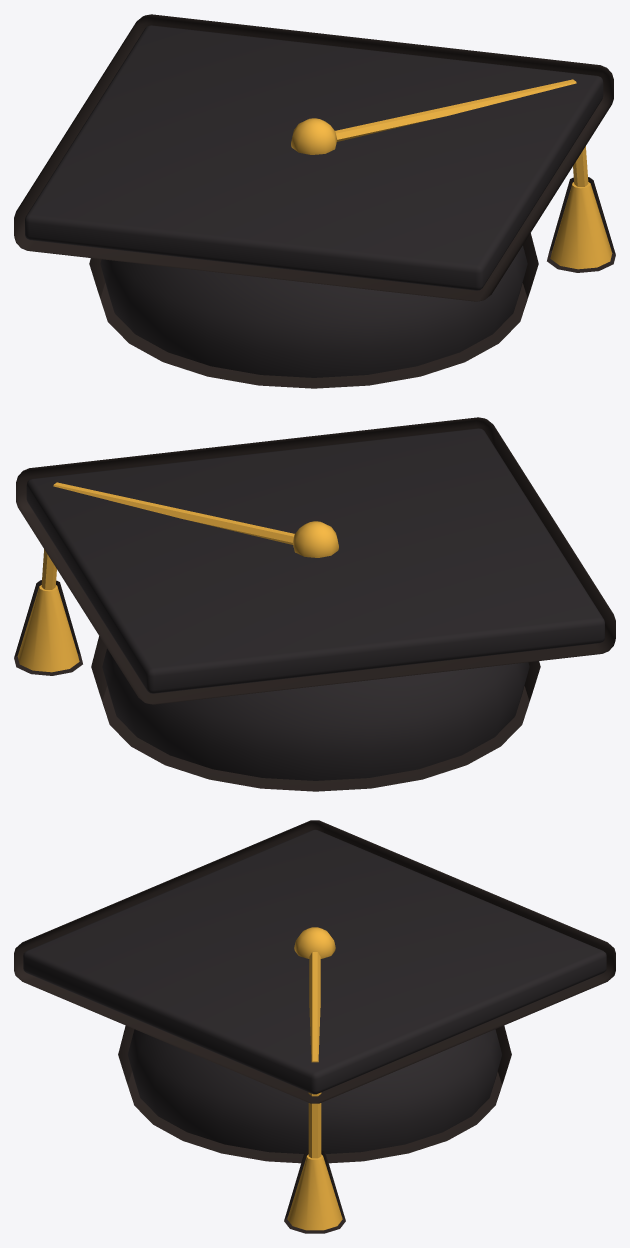
The model's file is hat_grad.fbx.
3 renders of one model, top to bottom at view 1: azimuth 30°, elevation 25°; view 2: azimuth 150°, elevation 25°; view 3: azimuth 270°, elevation 25°, orthographic. The views are drawn at different scales.
Parts seen in each view (by area): view 1: hat_grad_C_2A2628, hat_grad_Outline, hat_grad_C_F2B33D; view 2: hat_grad_C_2A2628, hat_grad_Outline, hat_grad_C_F2B33D; view 3: hat_grad_C_2A2628, hat_grad_Outline, hat_grad_C_F2B33D.
Boxes of the visible parts, box(x1,y1,x2,y2) form: hat_grad_C_2A2628: box(25, 25, 603, 377); hat_grad_Outline: box(14, 14, 615, 388); hat_grad_C_F2B33D: box(291, 79, 612, 269); hat_grad_C_2A2628: box(26, 428, 604, 780); hat_grad_Outline: box(14, 417, 615, 791); hat_grad_C_F2B33D: box(17, 482, 338, 672); hat_grad_C_2A2628: box(23, 829, 606, 1153); hat_grad_Outline: box(14, 820, 615, 1233); hat_grad_C_F2B33D: box(287, 927, 342, 1230).
Bounding box in the file's own units: 0.8682 × 0.283 × 0.8682.
